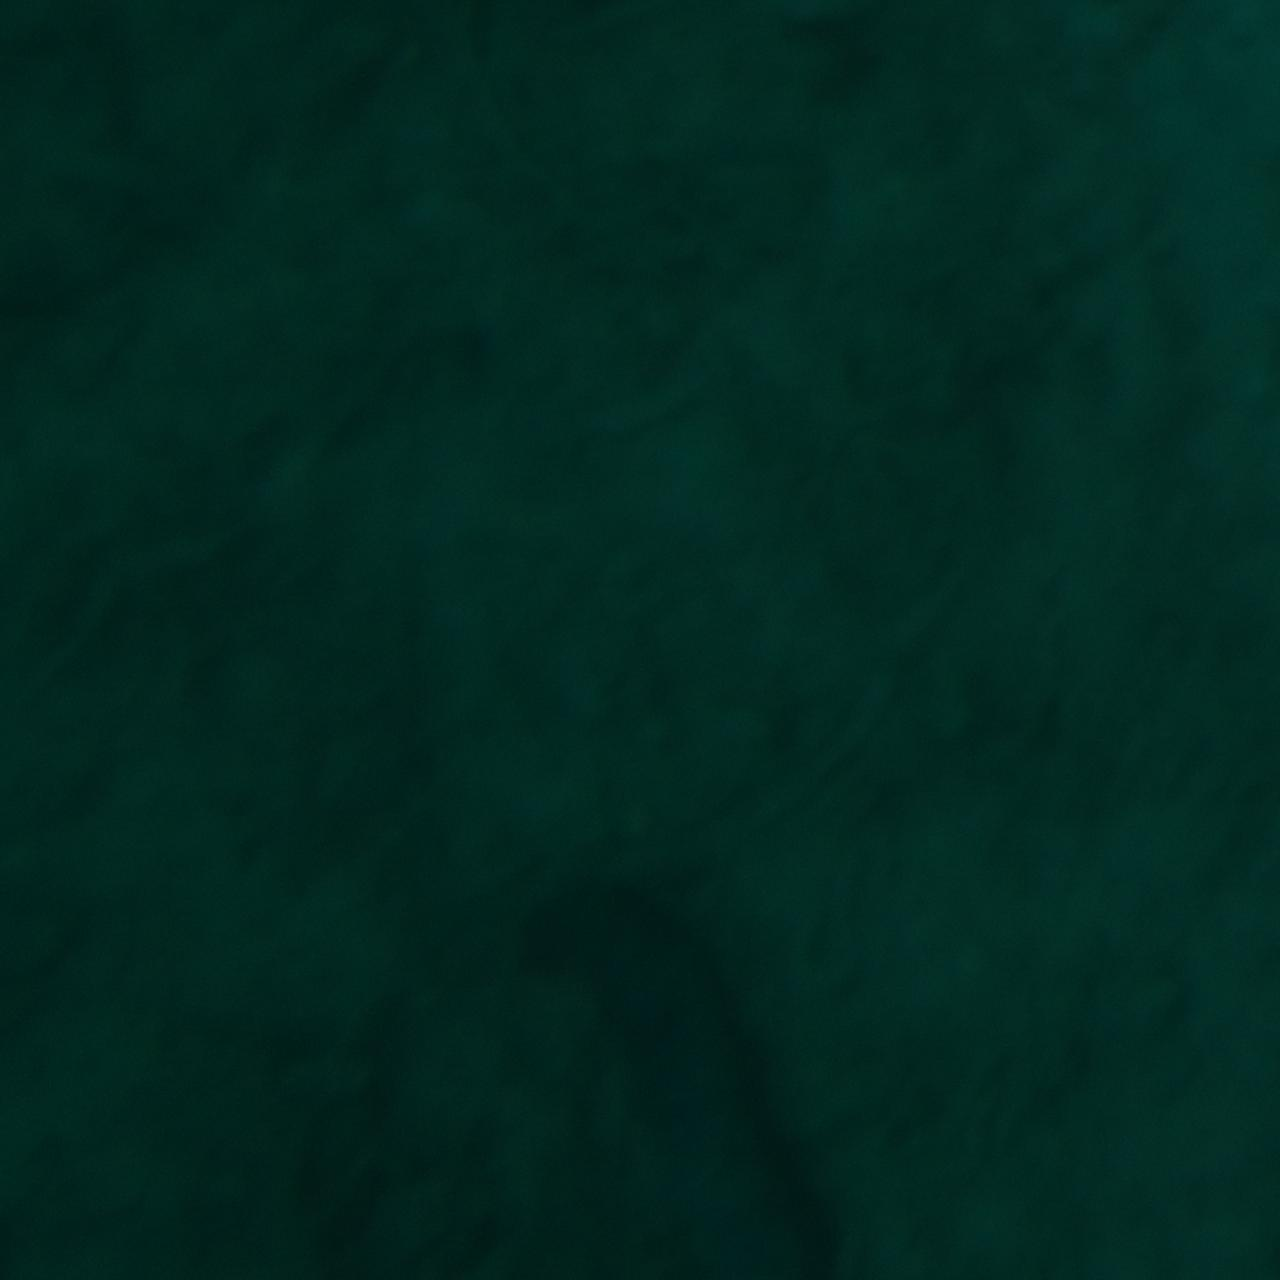Holothuria tubulosa: (484, 871, 796, 1279)
